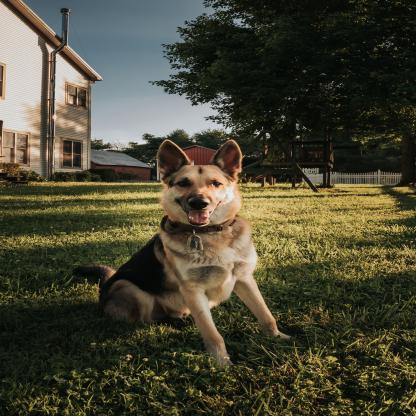dog: (71, 135, 295, 366)
